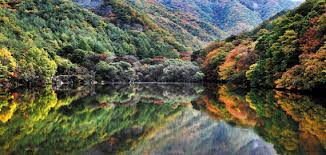forest: (1, 1, 323, 86)
lake: (7, 86, 297, 155)
mountain: (1, 1, 323, 90)
